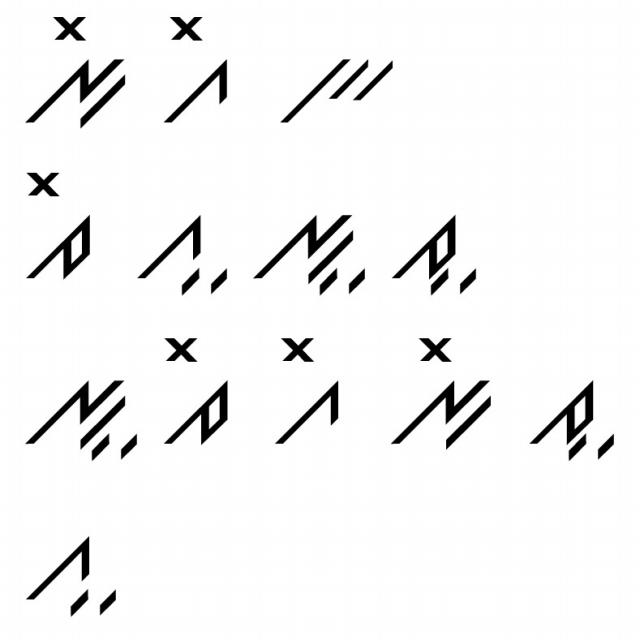gah: (21, 524, 121, 620), (132, 203, 231, 298)
go: (260, 329, 345, 455), (153, 8, 234, 127)
ngah: (248, 202, 369, 301), (22, 366, 140, 466)
ngo: (386, 324, 498, 452), (13, 13, 133, 132)
tah: (382, 197, 484, 299), (530, 370, 618, 466)
to: (18, 160, 99, 283), (156, 329, 235, 454)
